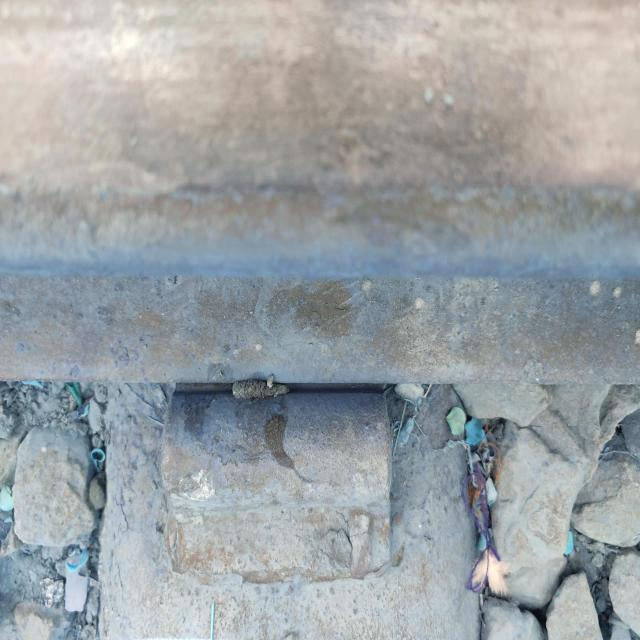Missing Fastener: (116, 369, 443, 640)
